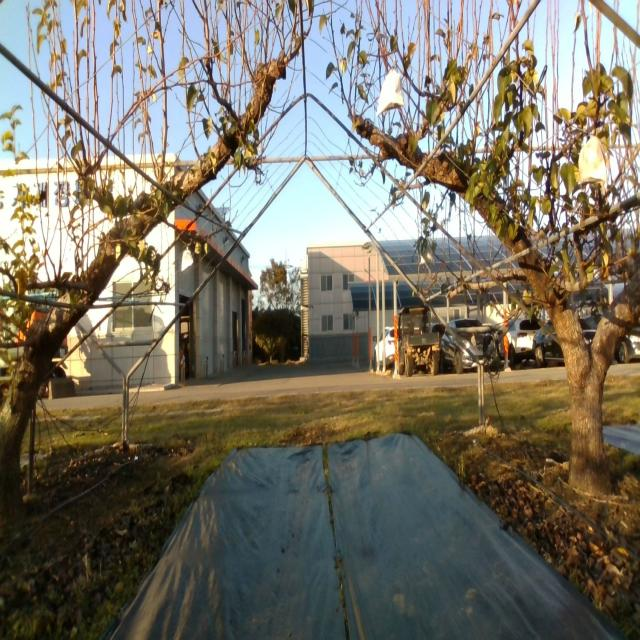pearbags: (376, 56, 405, 118), (578, 135, 609, 190), (420, 245, 436, 268), (181, 246, 194, 273)
